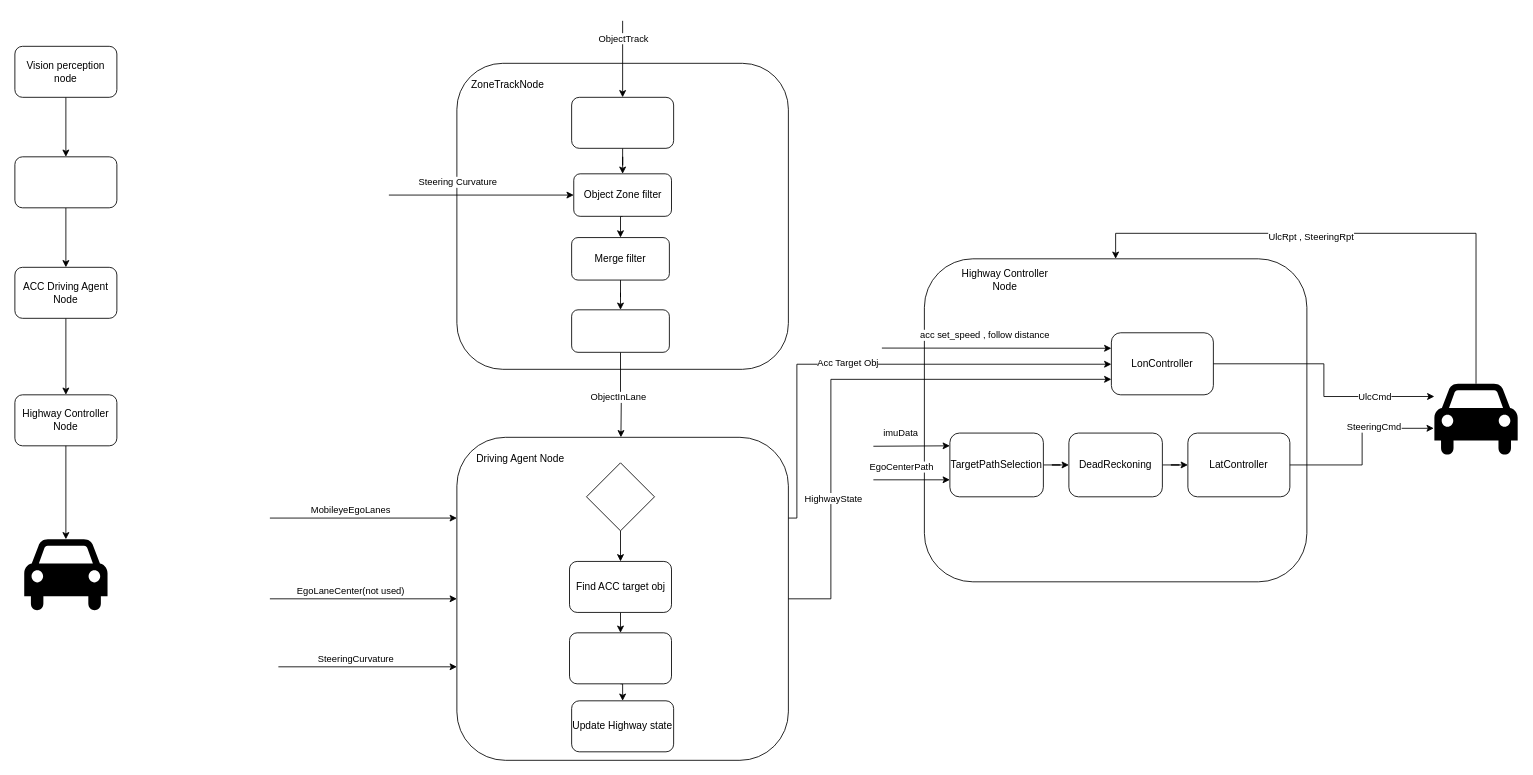
Some shapes in this 1533 by 775 pixel diagram are drawn without their labels. The shapes that lost their labels are listed below. From the top down, each one's centre as x and y in pixels, then its label:
At [622,122]: "Popuplate NearVehicleObject".
At [65,182]: "ZoneTrackerNode".
At [620,330]: "create | delete | update R1Observers".
At [620,496]: "IsMobileyeOK".
At [620,658]: "Update ACC state".
